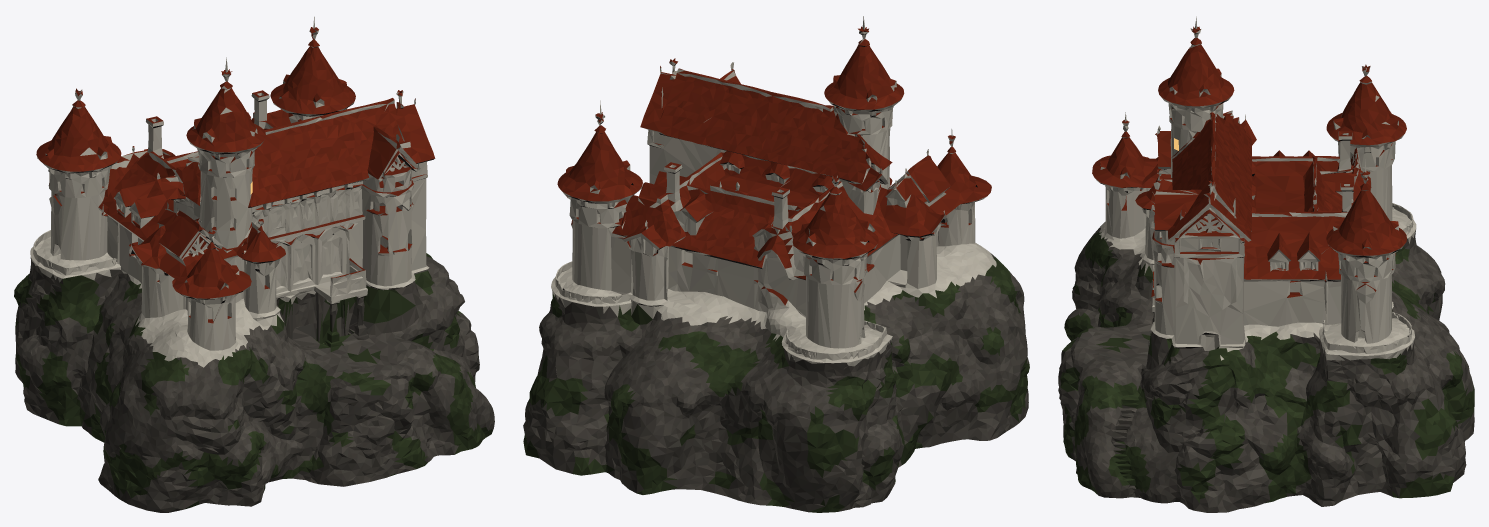
File: dracula-castle.glb
3 renders of one model, left to right at view 1: azimuth 30°, elevation 25°; view 2: azimuth 150°, elevation 25°; view 3: azimuth 270°, elevation 25°, orthographic. The views are drawn at different scales.
Visible parts, largest first — view 1: castle; view 2: castle; view 3: castle.
Boxes of the visible parts, x1=… form: castle: x1=14, y1=16, x2=494, y2=512; castle: x1=523, y1=16, x2=1029, y2=512; castle: x1=1058, y1=16, x2=1474, y2=512.
Size of the model in its own units: 75.71 by 73.86 by 73.19.
